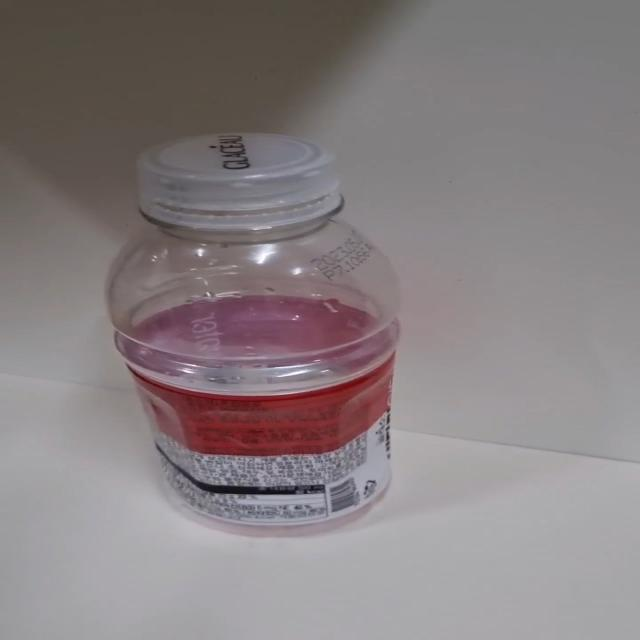Plastic: (102, 132, 402, 539)
